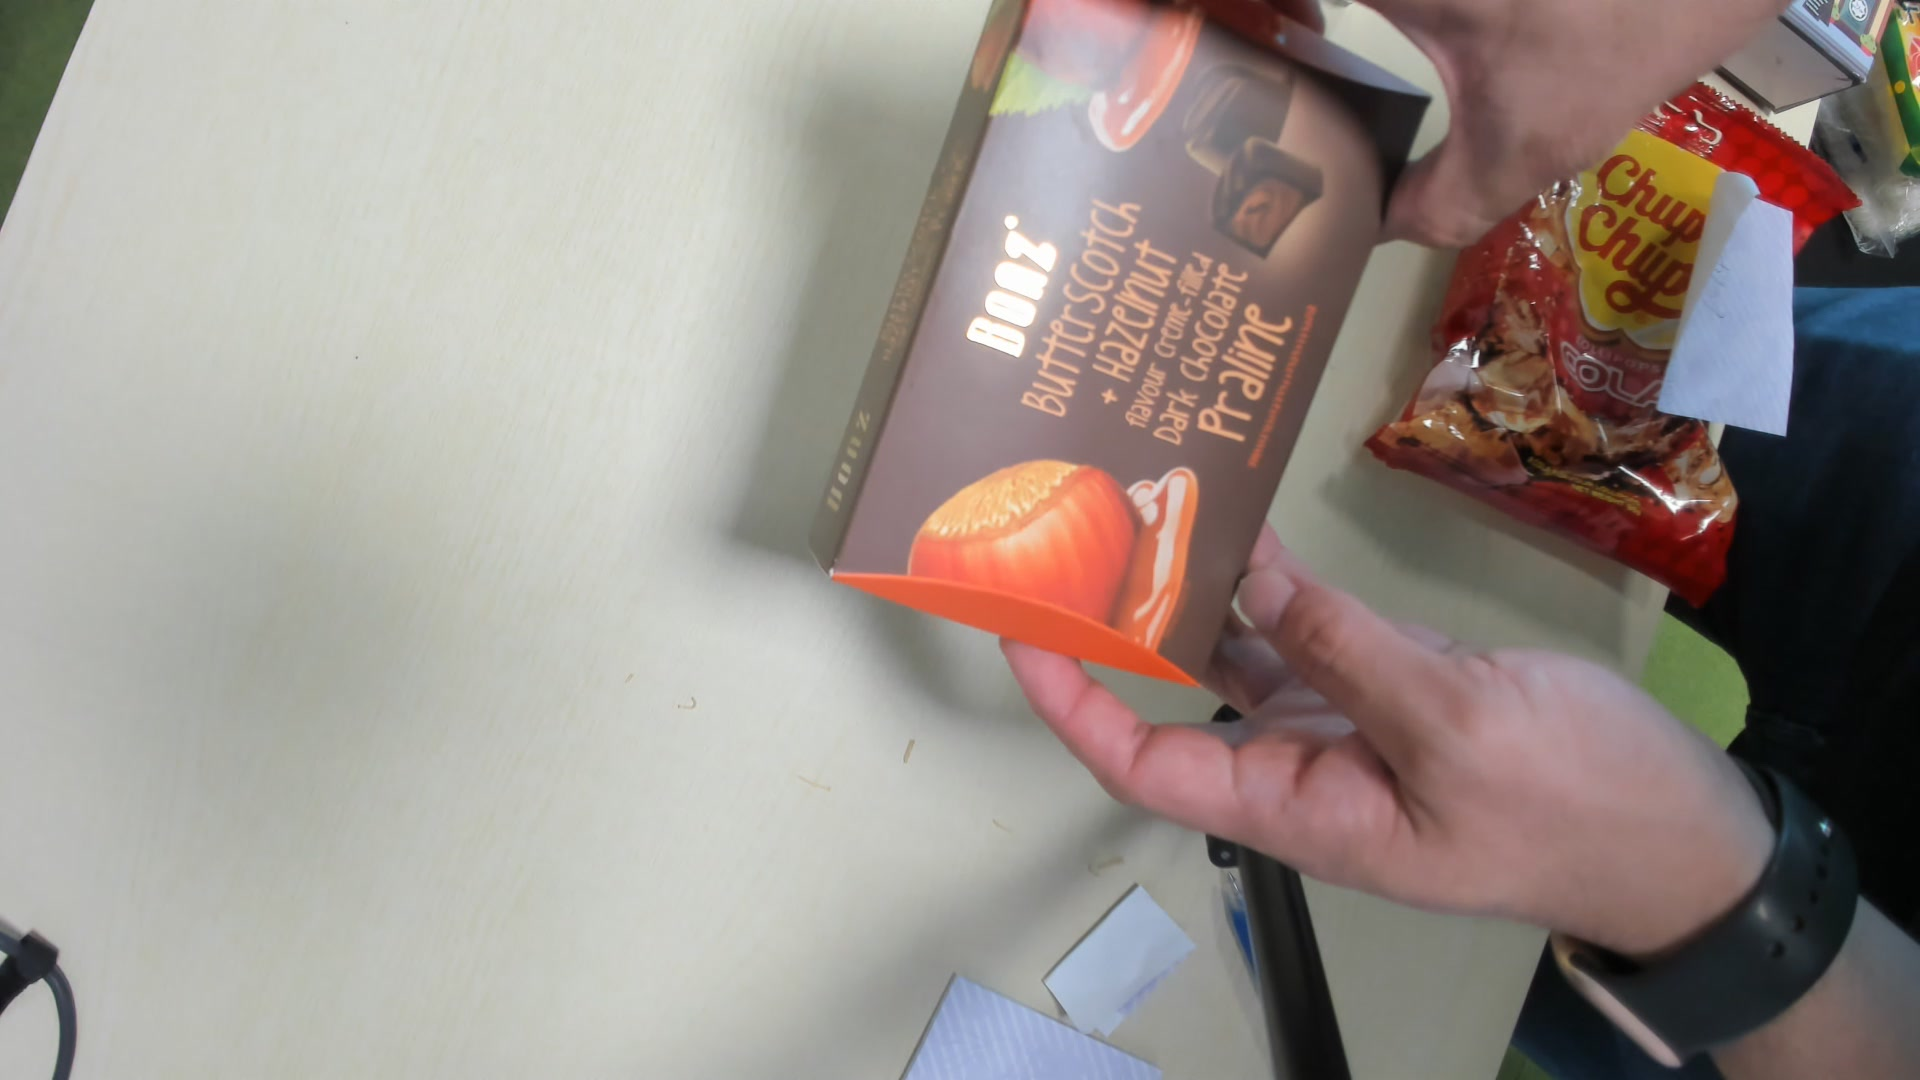SweetsChocolatesOthers_0-99g_NonHalal_Nonhealthy: (795, 5, 1424, 694)
